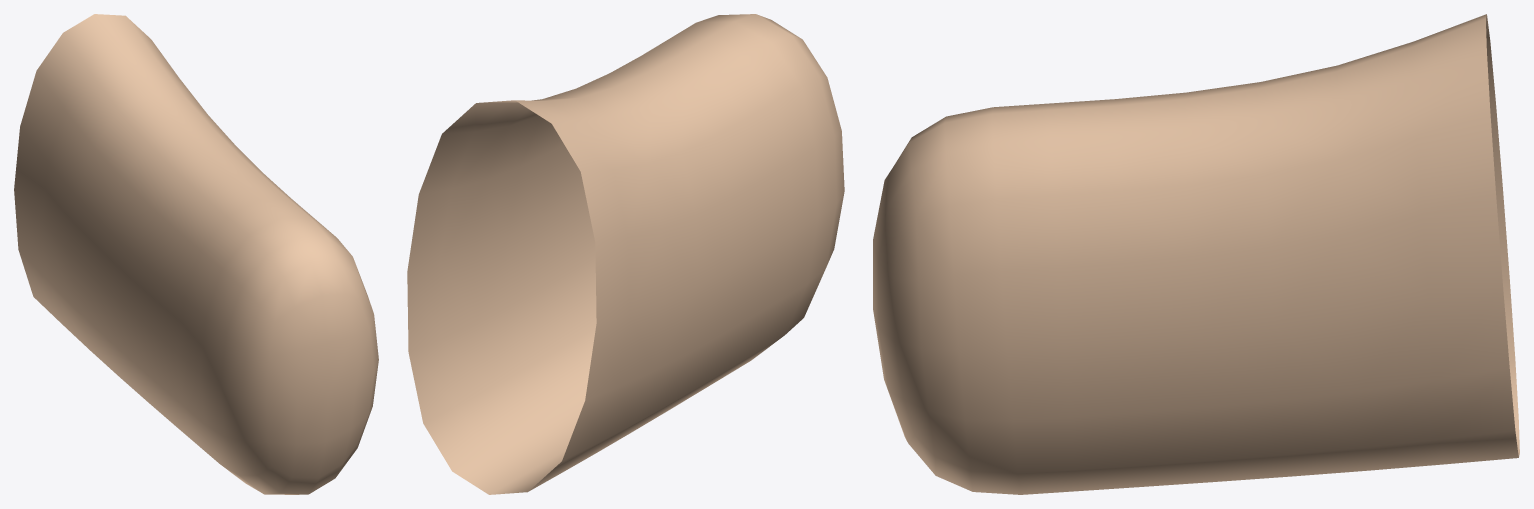
File: Hand.fbx
3 renders of one model, left to right at view 1: azimuth 30°, elevation 25°; view 2: azimuth 150°, elevation 25°; view 3: azimuth 270°, elevation 25°, orthographic. The views are drawn at different scales.
Parts seen in each view (by area): view 1: Hand; view 2: Hand; view 3: Hand.
Boxes of the visible parts, x1,y1,x2,y2 form: Hand: (14,14,378,494); Hand: (407,14,844,494); Hand: (873,14,1519,494).
Size of the model in its own units: 37.14 by 77.58 by 98.17.
